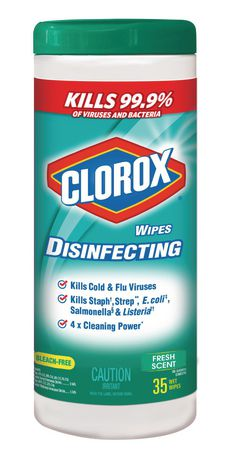Wipes: (26, 16, 205, 443)
